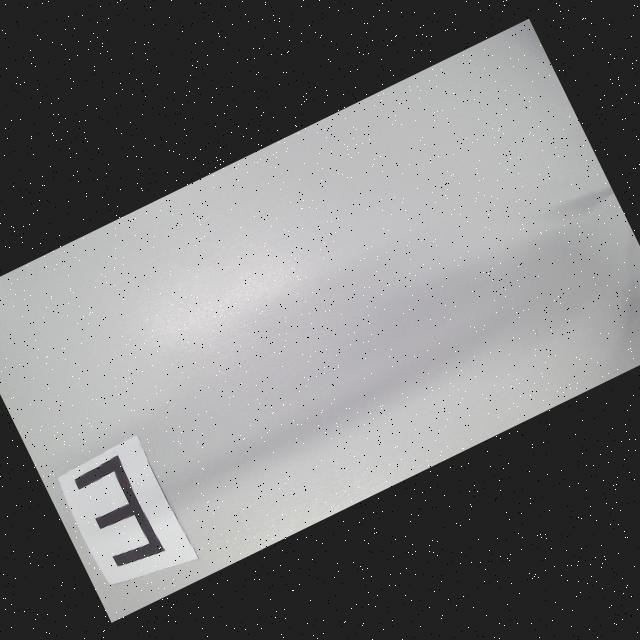FAKE: (72, 452, 166, 573)
